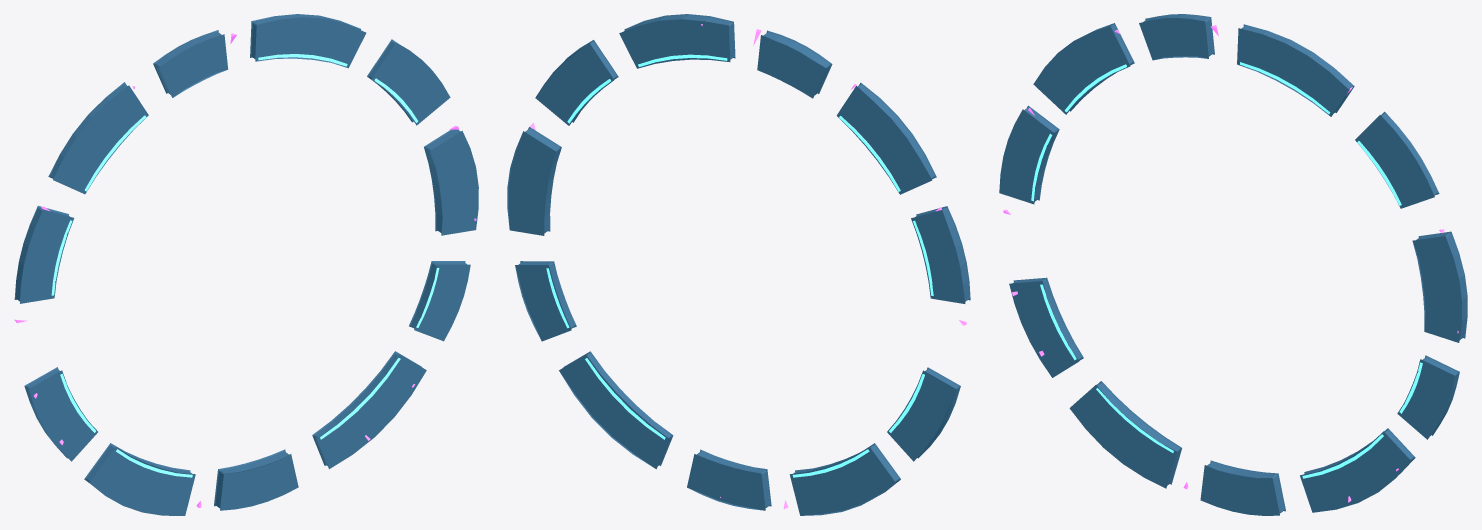
Rendered from dimensional-rift.glb.
3 renders of one model, left to right at view 1: azimuth 30°, elevation 25°; view 2: azimuth 150°, elevation 25°; view 3: azimuth 330°, elevation 25°, orthographic.
Visible parts, largest first — view 1: RIFT_FRAME, RIFT_STRESS_VANES; view 2: RIFT_FRAME, RIFT_STRESS_VANES; view 3: RIFT_FRAME, RIFT_STRESS_VANES.
Part boxes in pixels (bbox=[...]): RIFT_FRAME: bbox=[14, 14, 478, 515]; RIFT_STRESS_VANES: bbox=[51, 54, 439, 477]; RIFT_FRAME: bbox=[507, 14, 970, 515]; RIFT_STRESS_VANES: bbox=[546, 54, 933, 477]; RIFT_FRAME: bbox=[999, 14, 1467, 515]; RIFT_STRESS_VANES: bbox=[1031, 62, 1422, 478].
Size of what is drawn, in the model's own units: 40.67 by 40.66 by 1.27.
